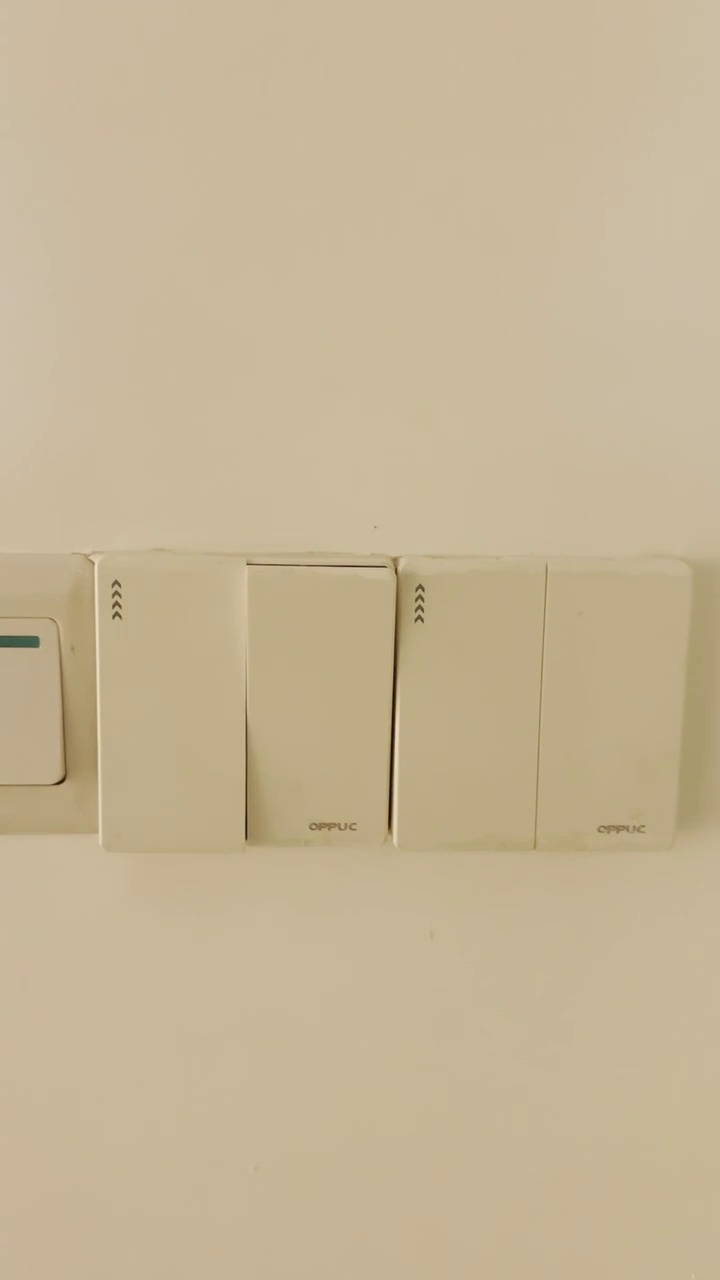button1: (100, 561, 240, 843), (402, 564, 538, 844), (543, 570, 680, 846), (254, 571, 385, 841)
